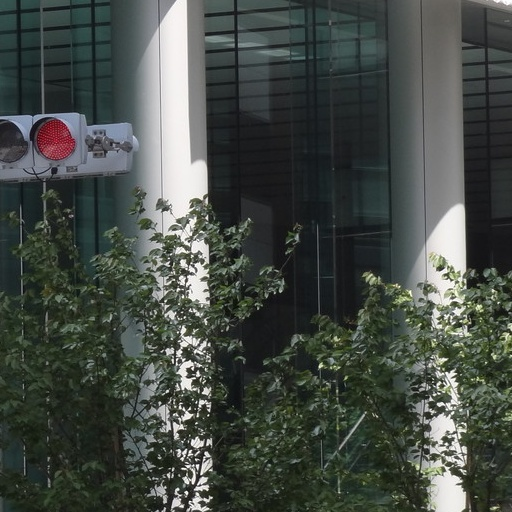Traffic_Signal_Red: (5, 104, 86, 166)
